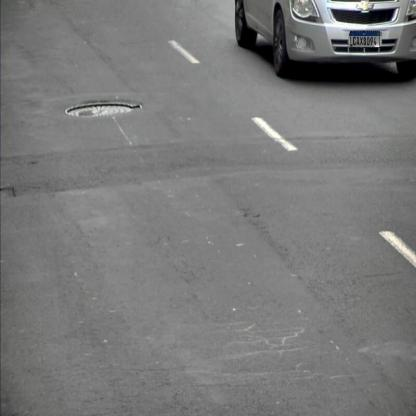PlacaM: (350, 31, 380, 48)
